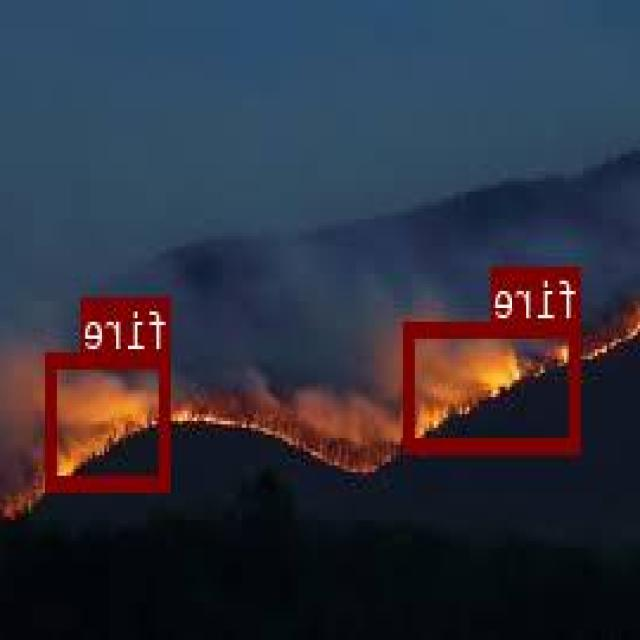fire: (407, 321, 582, 449), (48, 351, 173, 488)
